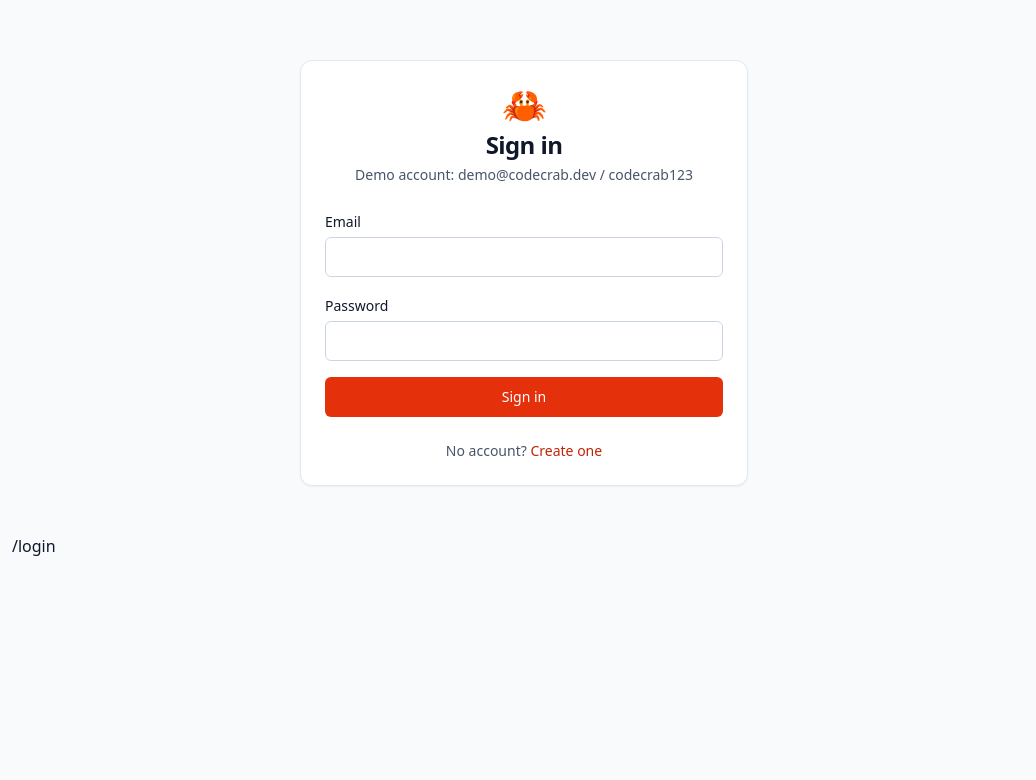
Scenario: Login page › signs in, stores the token and redirects home
The width and height of the screenshot is (1036, 780).
In the field labelled "Email": (524, 257) [325,237,723,277], type "demo@codecrab.dev"
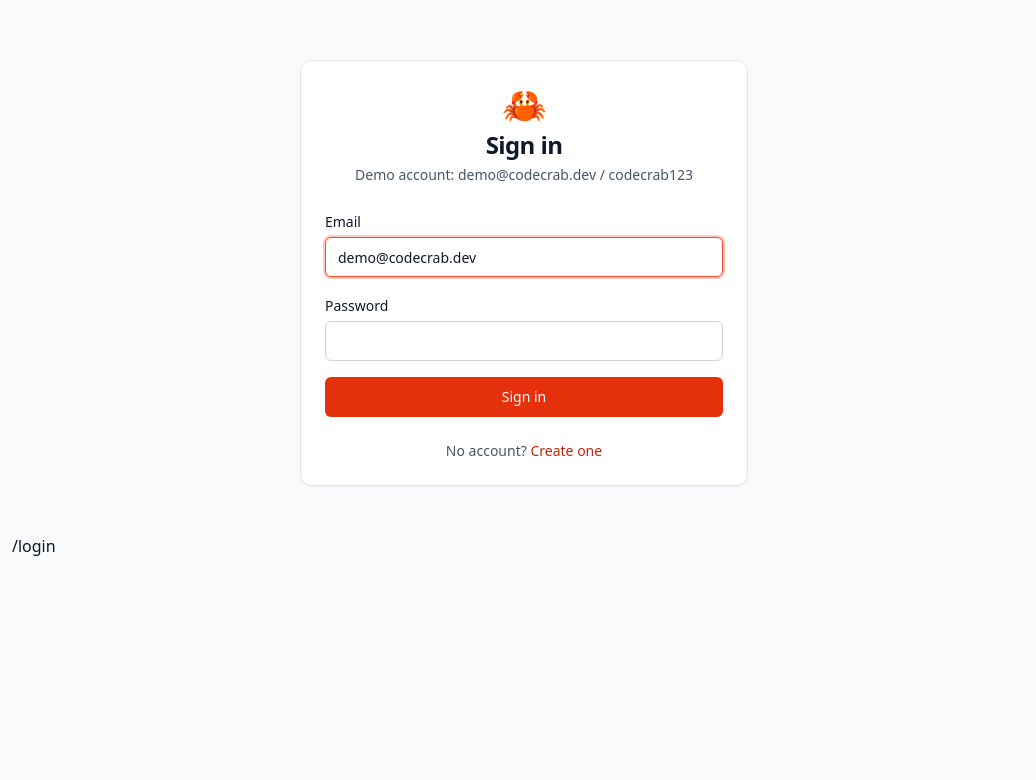
In the password field labelled "Password": (524, 341) [325,321,723,361], type "codecrab123"
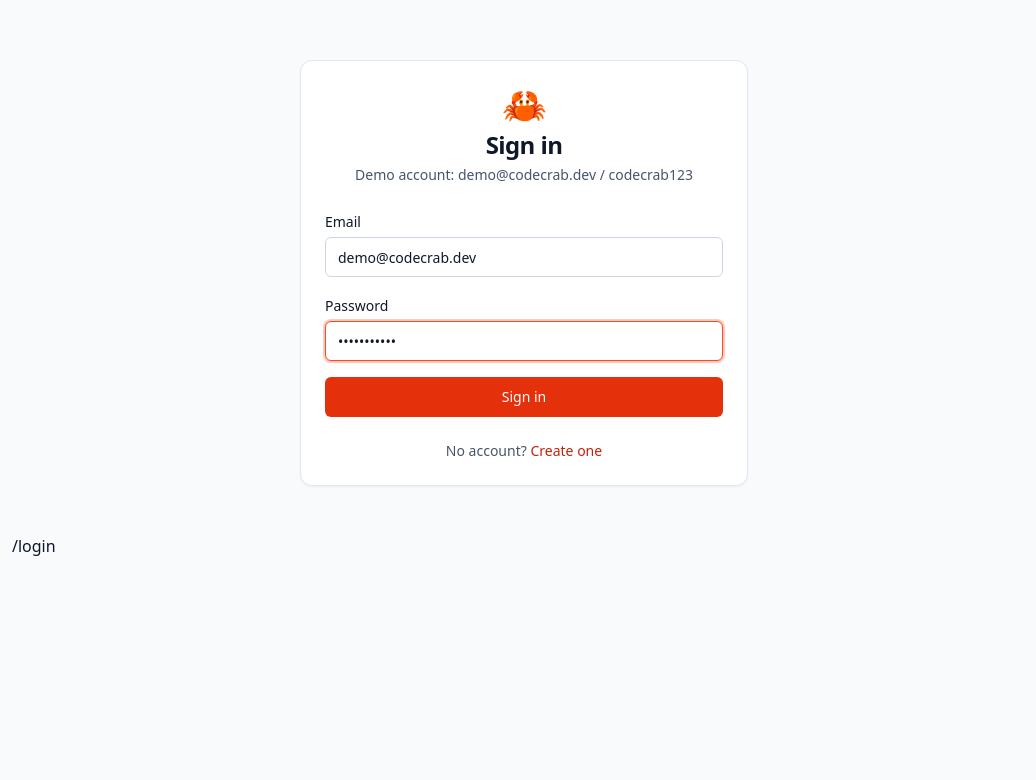
Click the button "Sign in": (524, 397) [325,377,723,417]
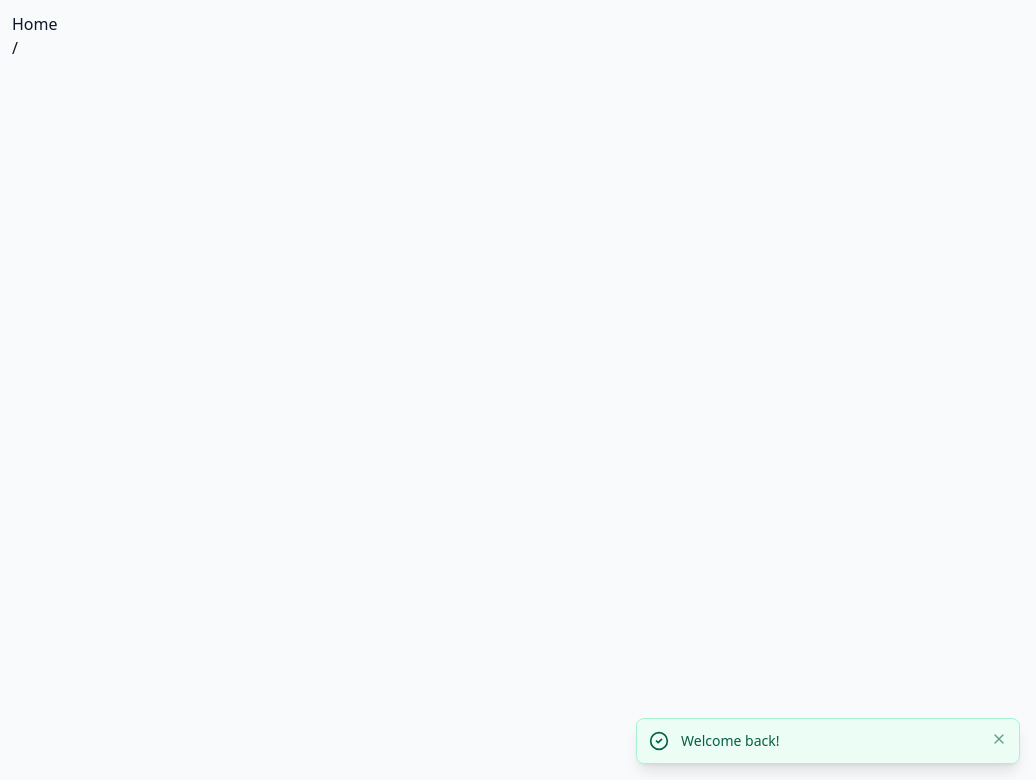
Result: the text "Home" is shown at [12,13,58,35]
Result: the text "Welcome back!" is shown at [681,731,780,750]
